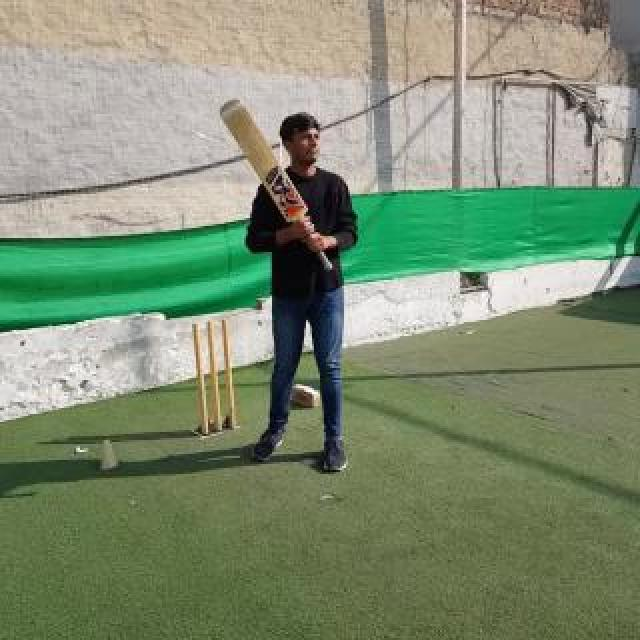bat: (220, 98, 334, 272)
